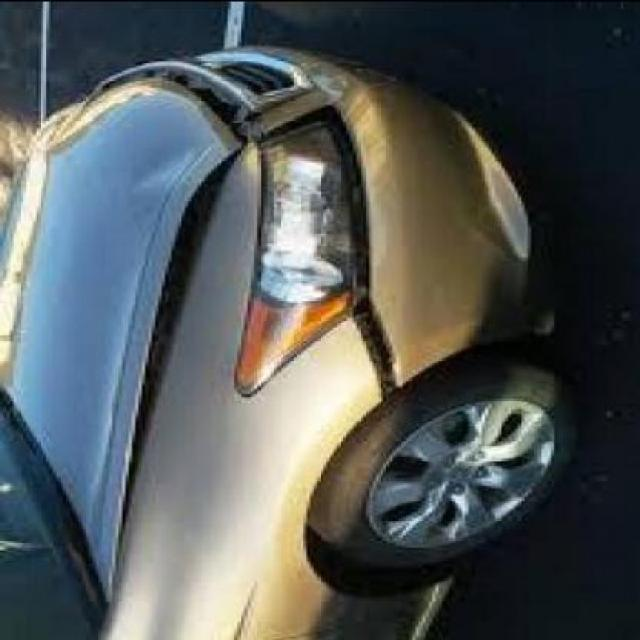damage: (111, 106, 236, 583), (262, 99, 411, 399), (86, 59, 263, 143)
